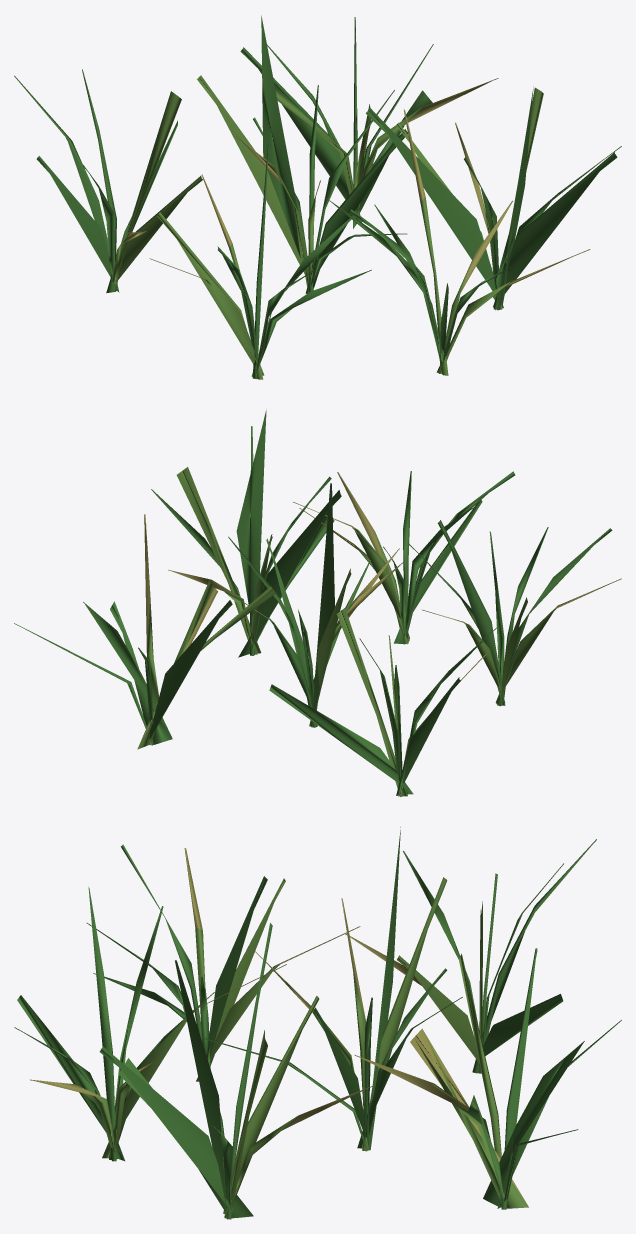
The model's file is Plant_Hills_SlopeGrass_001_v12_LOD1.glb.
The picture shows the model from 3 angles, top to bottom: view 1: azimuth 30°, elevation 25°; view 2: azimuth 150°, elevation 25°; view 3: azimuth 270°, elevation 25°; orthographic projection. The views are drawn at different scales.
Visible parts, largest first — view 1: HL_SlopeGrass_Body; view 2: HL_SlopeGrass_Body; view 3: HL_SlopeGrass_Body.
Boxes of the visible parts, x1=… form: HL_SlopeGrass_Body: x1=14, y1=15, x2=621, y2=379; HL_SlopeGrass_Body: x1=14, y1=410, x2=621, y2=796; HL_SlopeGrass_Body: x1=14, y1=827, x2=621, y2=1219.
Bounding box in the file's own units: 1.35 × 0.736 × 1.33.
